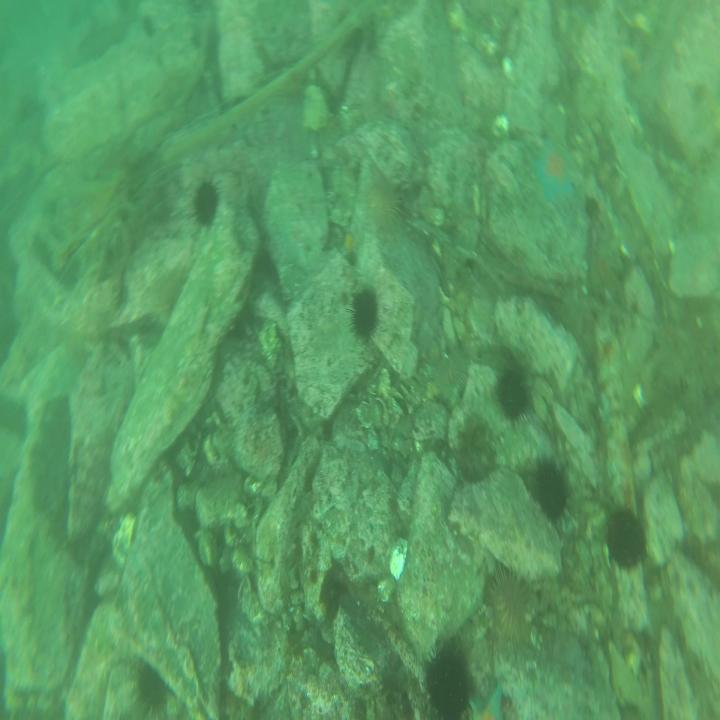echinus: (422, 639, 471, 720), (485, 560, 532, 644), (604, 506, 646, 575), (530, 456, 568, 519), (362, 168, 398, 231), (496, 367, 532, 422), (132, 657, 166, 713), (347, 287, 379, 343), (189, 176, 221, 229)
starfish: (533, 136, 575, 202)
